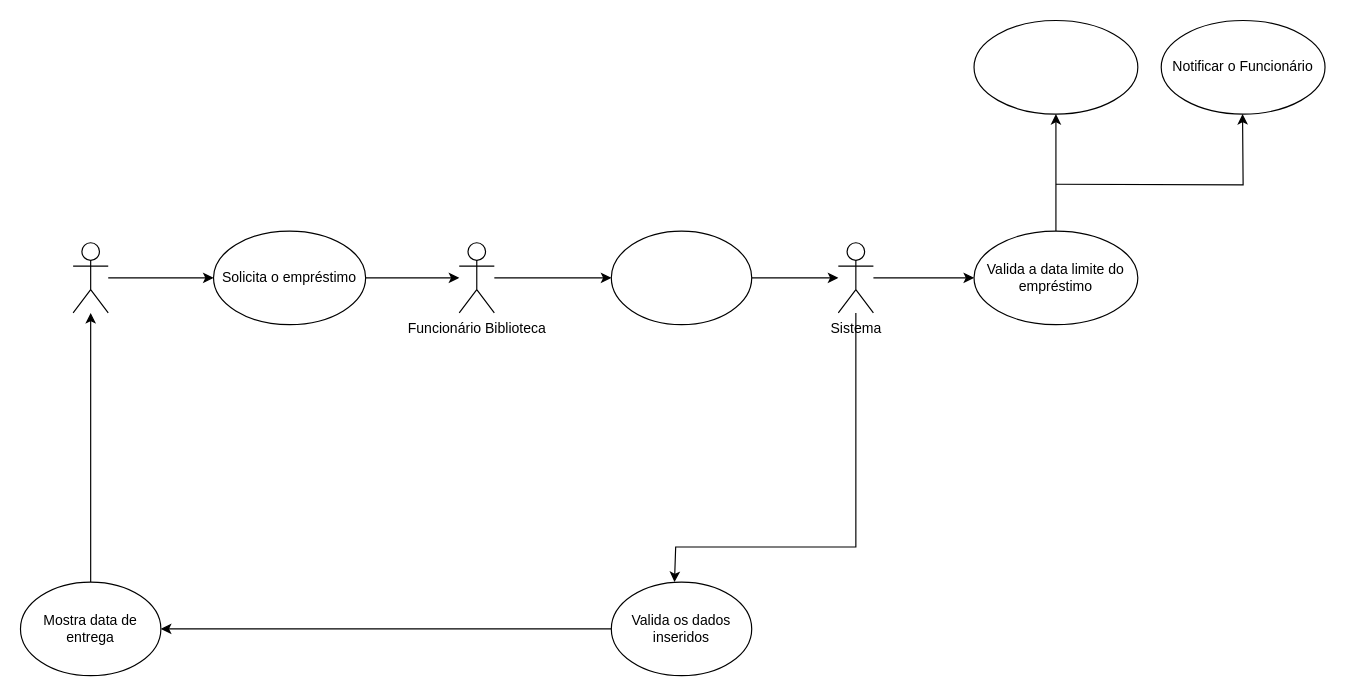
This 1346x696 diagram has some shape labels left out. Each missing label, with the centre of its shape:
"Aluno" goes at [90,277].
"Enviar Notificação ao aluno" goes at [1055,66].
"Realiza Empréstimo" goes at [681,277].
